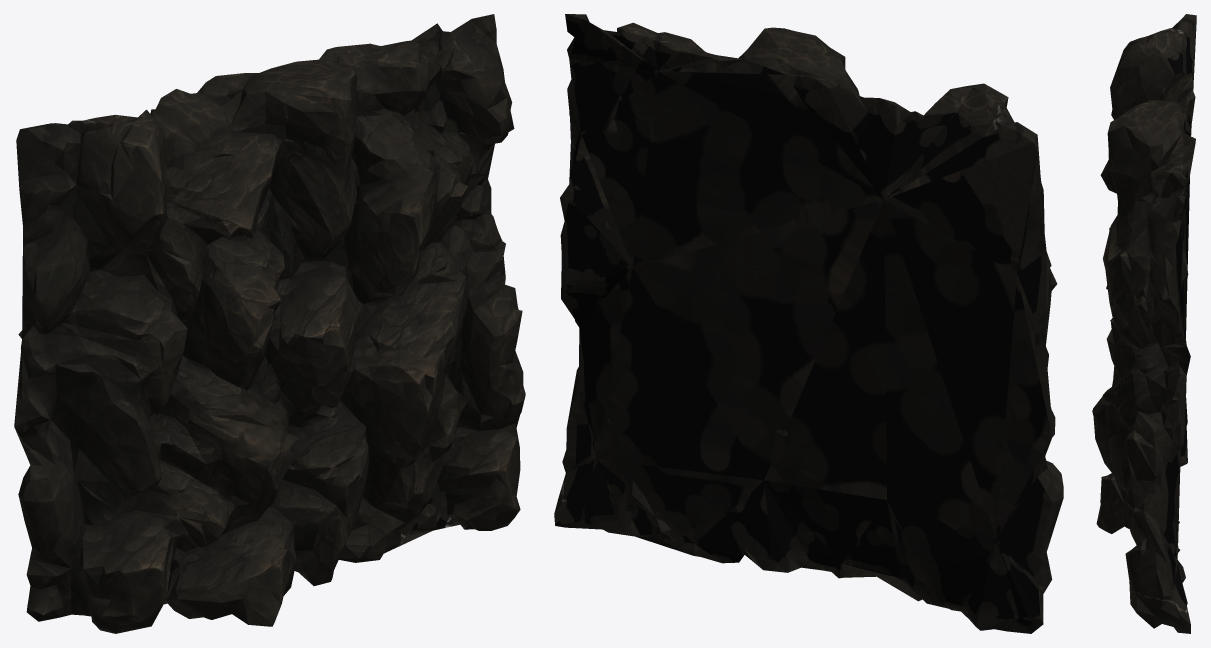
File: Cave Ceiling (tex_cave_ceiling).glb
The picture shows the model from 3 angles, left to right: view 1: azimuth 30°, elevation 25°; view 2: azimuth 150°, elevation 25°; view 3: azimuth 270°, elevation 25°; orthographic projection. The views are drawn at different scales.
Parts seen in each view (by area): view 1: output_unwrapped; view 2: output_unwrapped; view 3: output_unwrapped.
Part boxes in pixels (x1,y1,x2,y2): output_unwrapped: (14,14,525,633); output_unwrapped: (554,14,1063,633); output_unwrapped: (1092,14,1196,633).
Size of the model in its own units: 1.88 by 1.9 by 0.4041.
1 material, 1 textured.
